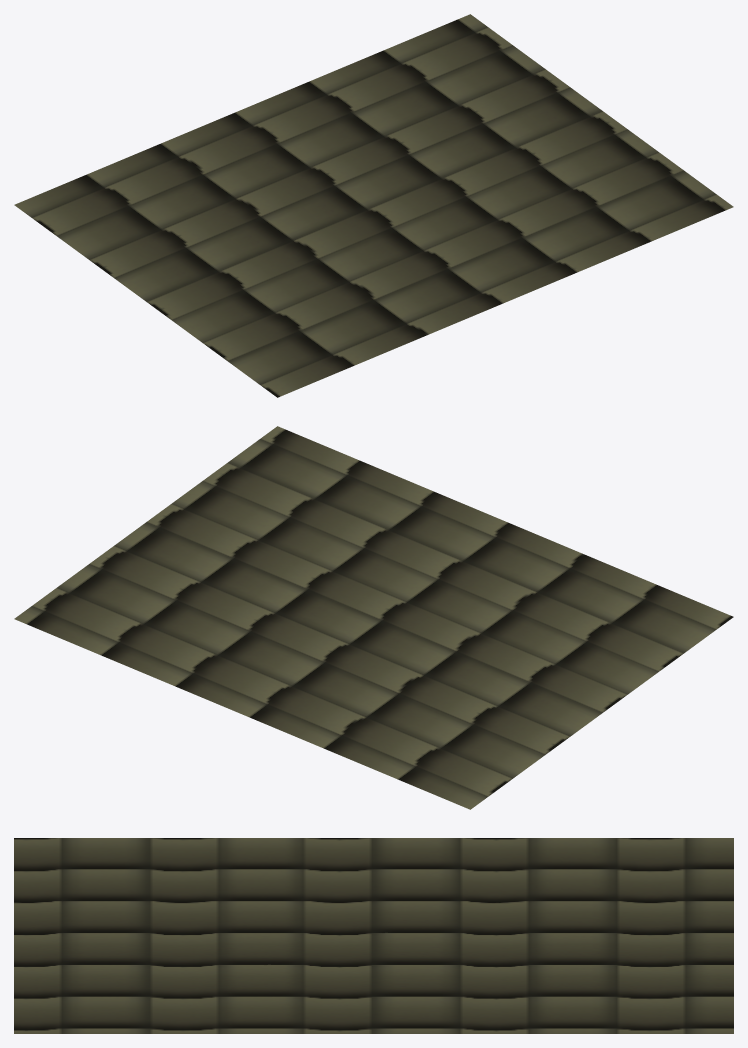
Rendered from NNJ0510067.fbx.
The picture shows the model from 3 angles, top to bottom: view 1: azimuth 30°, elevation 25°; view 2: azimuth 150°, elevation 25°; view 3: azimuth 270°, elevation 25°; orthographic projection. The views are drawn at different scales.
Parts seen in each view (by area): view 1: smNNJ0510067; view 2: smNNJ0510067; view 3: smNNJ0510067.
Part boxes in pixels (x1,y1,x2,y2): smNNJ0510067: (14,14,733,397); smNNJ0510067: (14,426,733,809); smNNJ0510067: (14,838,733,1033).
Size of the model in its own units: 276 by 45.97 by 276.
1 material, 1 textured.
